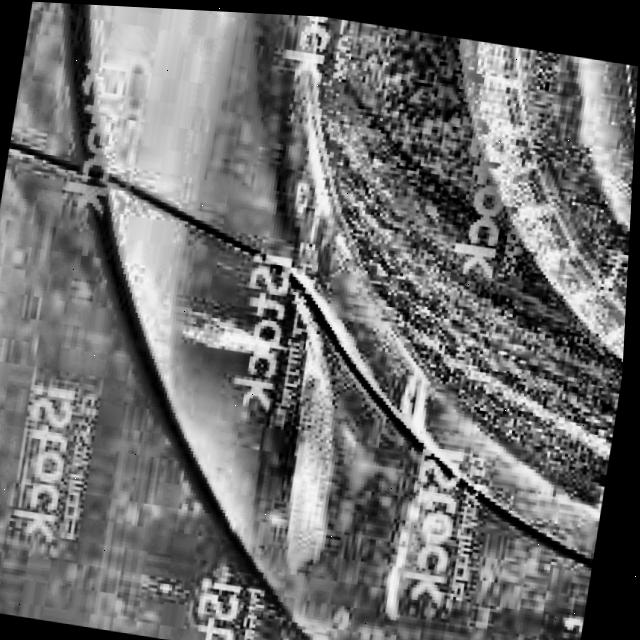door_scratch: (235, 290, 383, 586), (347, 359, 478, 628), (141, 244, 283, 407)
